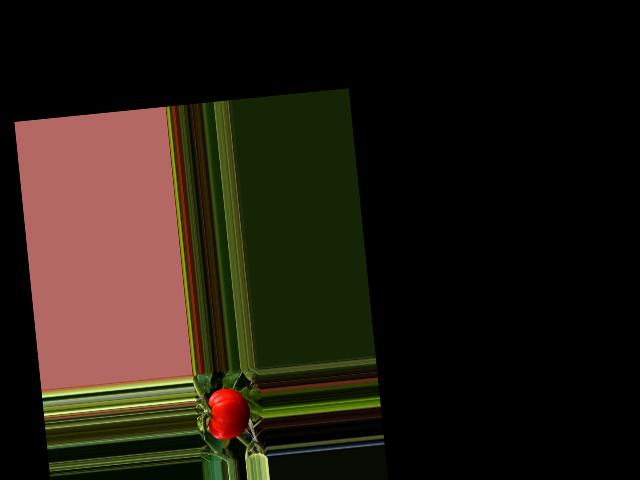tomato: (205, 386, 252, 441)
